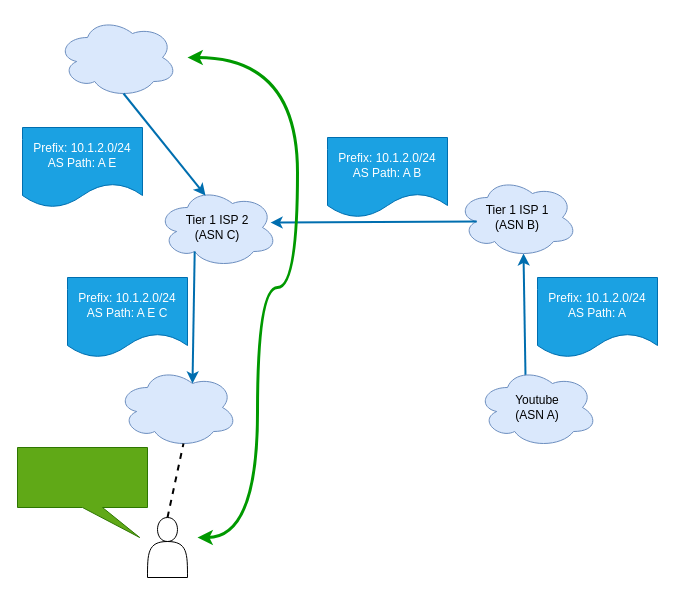
Image size: 675x595. Some labels were removed from this diagram. The centre of each missing label's shape, as x and y in pixels:
"Malicious Org. (ASN E)" goes at (x=117, y=57).
"Residential ISP (ASN D)" goes at (x=177, y=407).
"Visit youtube at 10.1.2.3" goes at (x=82, y=492).
